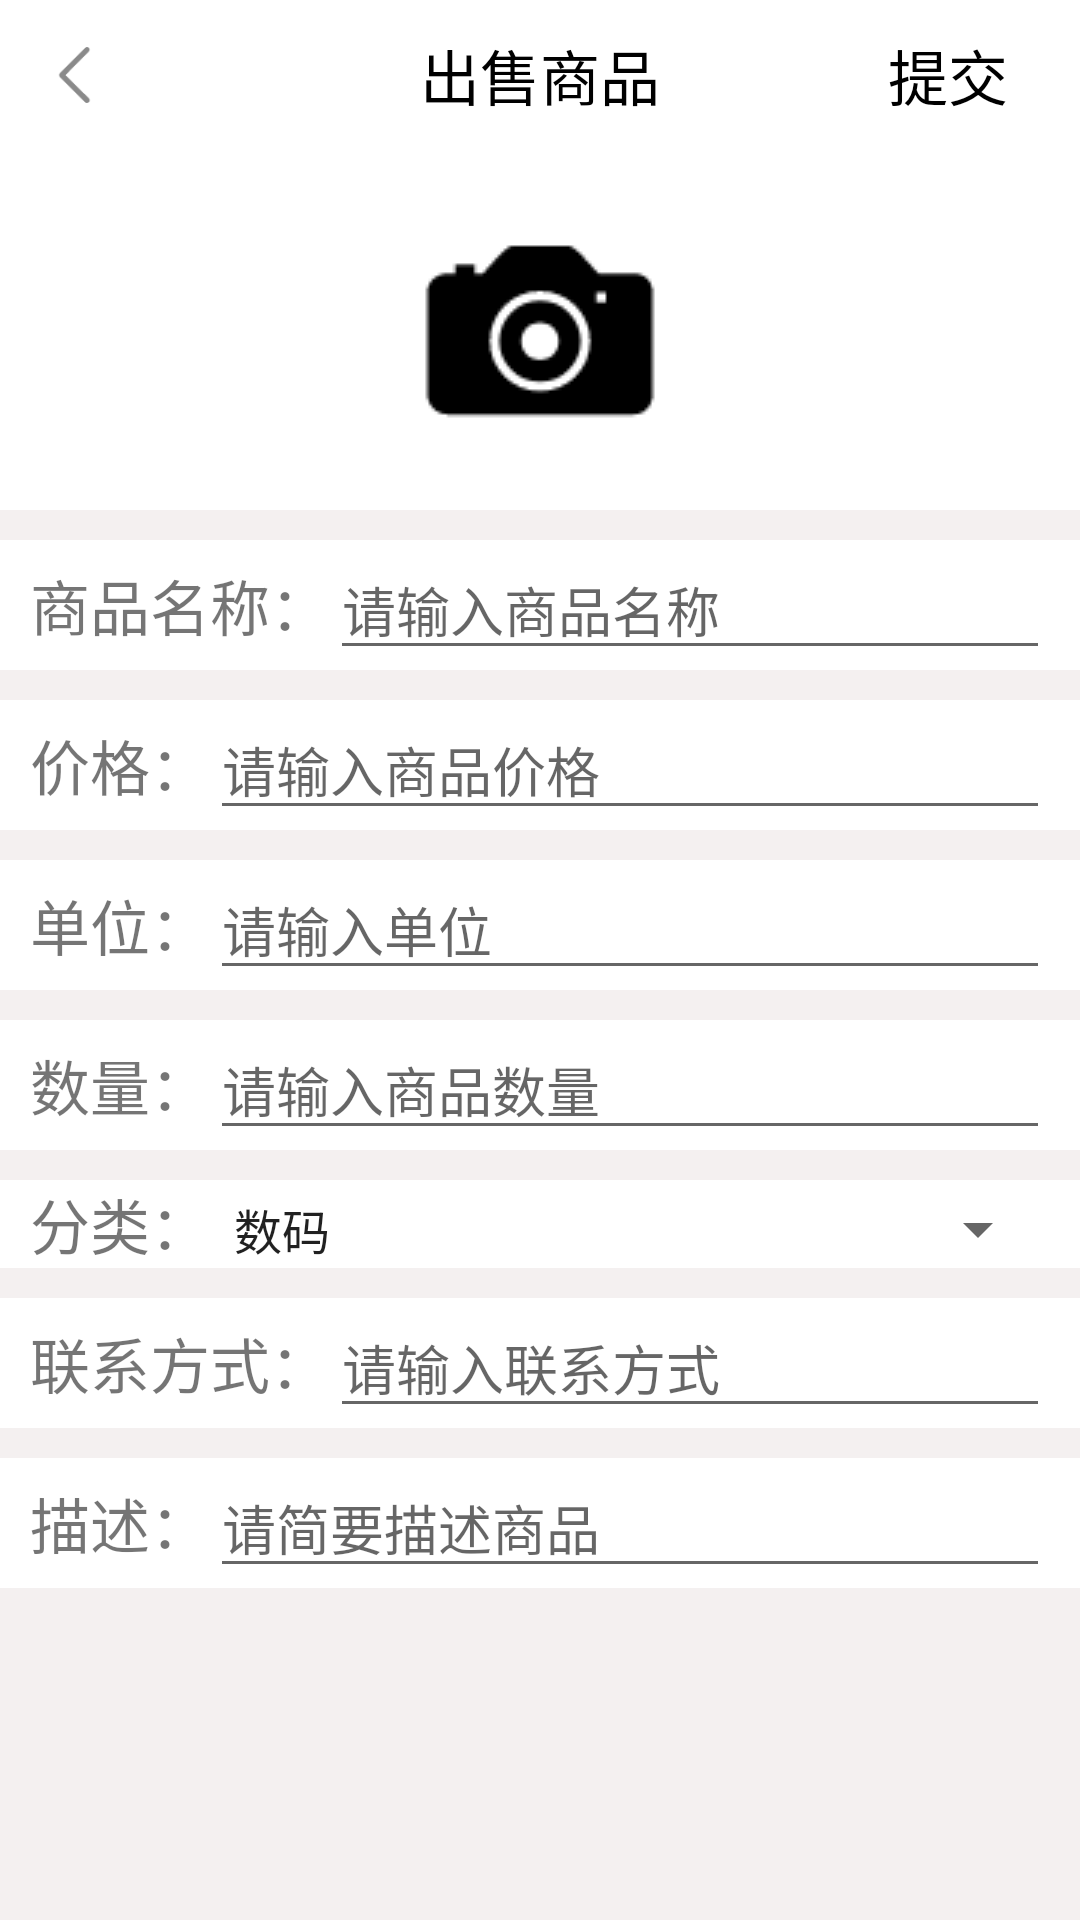

Named icons in this screenshot (1080 x 1920) and their centers, (x,y):
arrow back: (74,75)
camera: (540,331)
